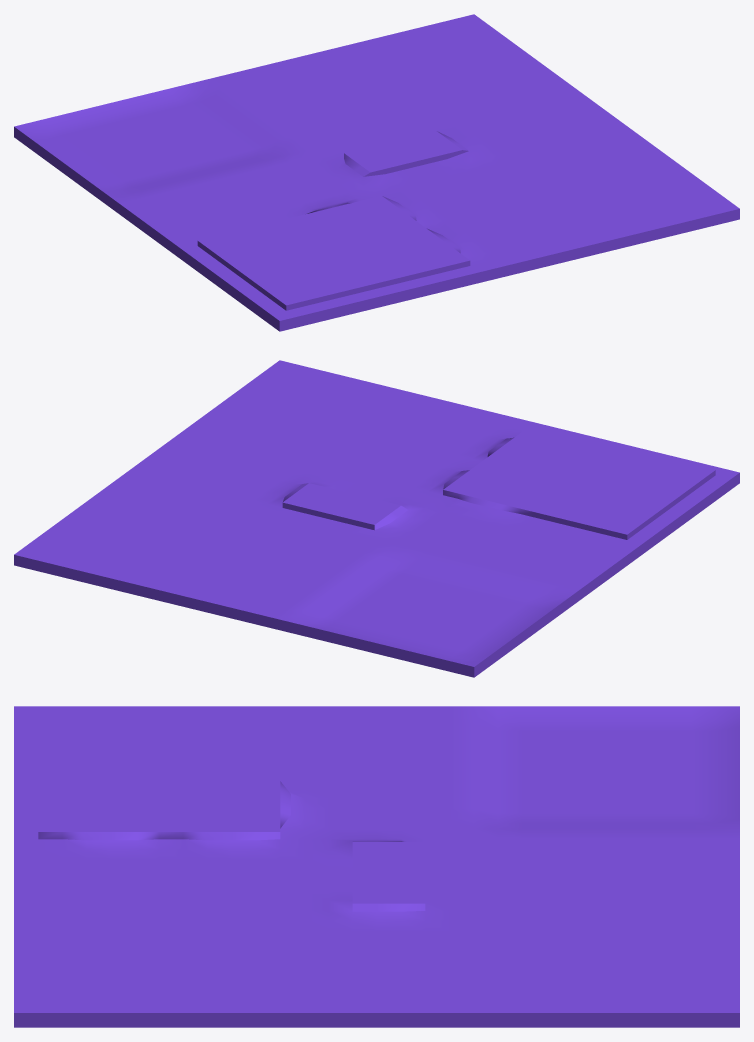
The model's file is Floor.fbx.
The picture shows the model from 3 angles, top to bottom: view 1: azimuth 30°, elevation 25°; view 2: azimuth 150°, elevation 25°; view 3: azimuth 270°, elevation 25°; orthographic projection. The views are drawn at different scales.
Visible parts, largest first — view 1: floor; view 2: floor; view 3: floor.
Part boxes in pixels (x1,y1,x2,y2): floor: [14, 14, 739, 331]; floor: [14, 360, 739, 677]; floor: [14, 706, 739, 1027].
Size of the model in its own units: 0.45 by 0.015 by 0.45.
